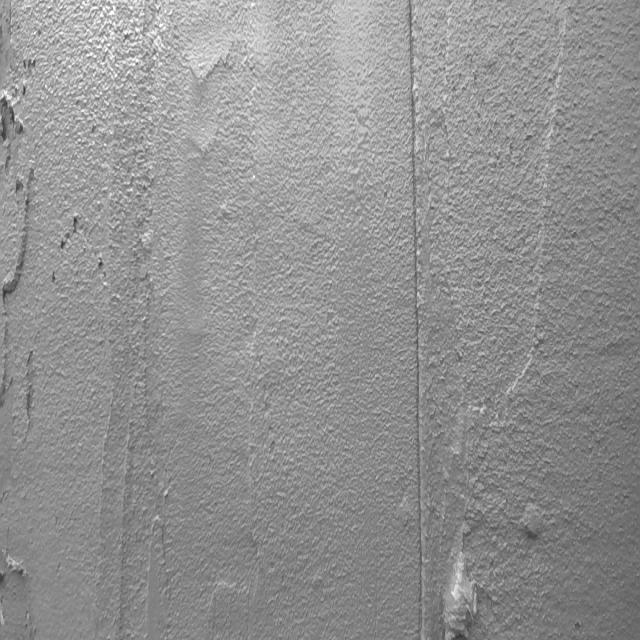trowels marks: (400, 4, 430, 640)
